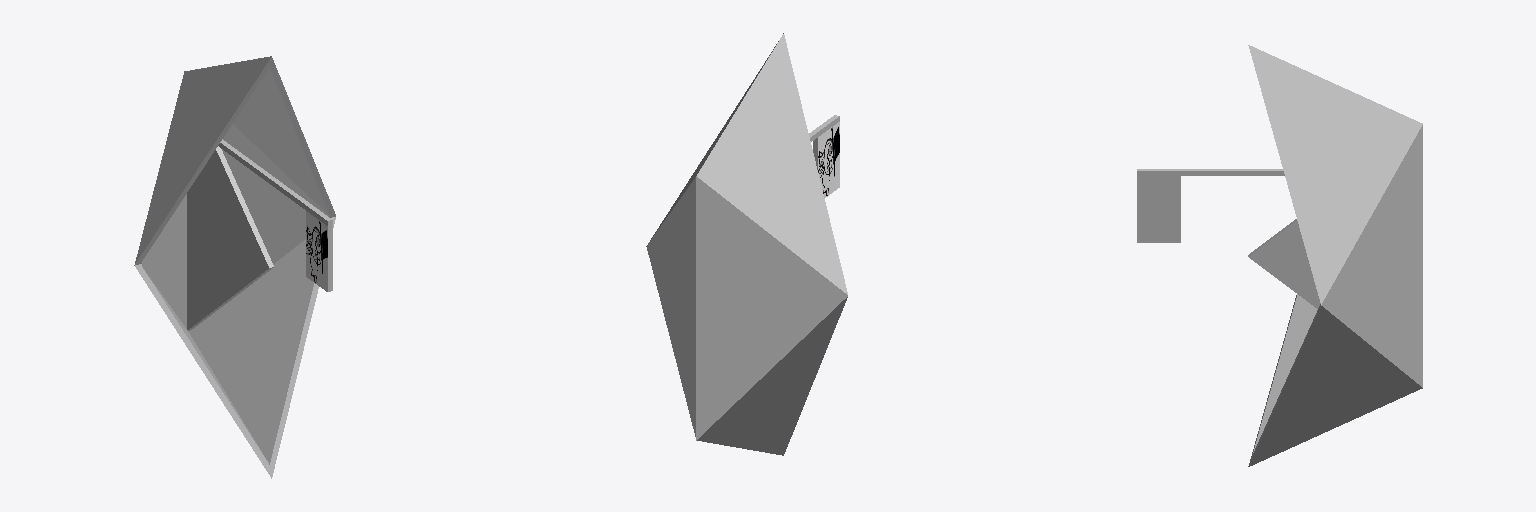
3 renders of one model, left to right at view 1: azimuth 30°, elevation 25°; view 2: azimuth 150°, elevation 25°; view 3: azimuth 270°, elevation 25°, orthographic.
Visible parts, largest first — view 1: Object.1, Object.3, Object.2; view 2: Object.1, Object.3; view 3: Object.1, Object.3, Object.2.
Part boxes in pixels (bbox=[...]): Object.1: bbox=[134, 56, 335, 478]; Object.3: bbox=[306, 211, 332, 291]; Object.2: bbox=[218, 139, 332, 225]; Object.1: bbox=[646, 33, 847, 455]; Object.3: bbox=[813, 122, 839, 197]; Object.1: bbox=[1248, 45, 1422, 466]; Object.3: bbox=[1137, 176, 1180, 242]; Object.2: bbox=[1137, 169, 1284, 175].
Bounding box in the file's own units: 80 × 160 × 98.2.
1 materials, 1 textured.